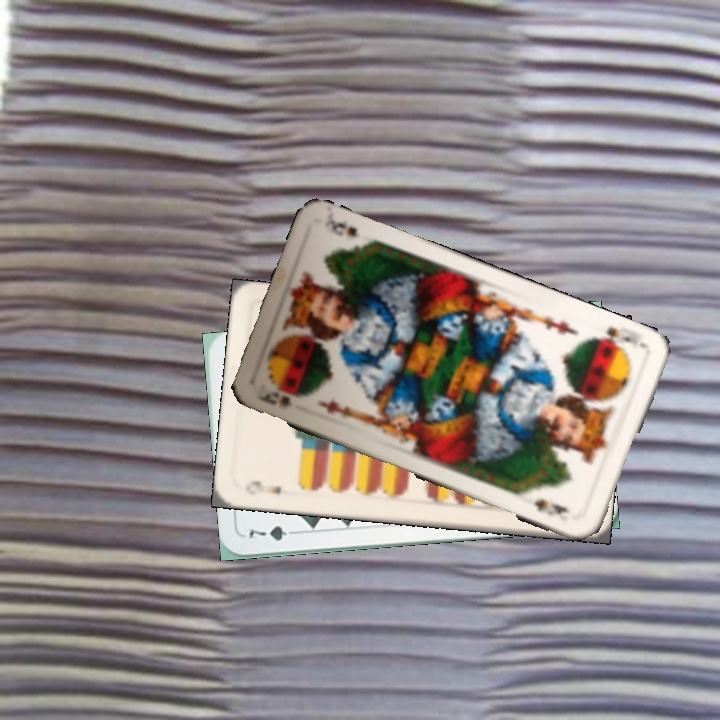E9: (241, 476, 284, 498)
G7: (244, 521, 303, 544)
SK: (588, 322, 634, 354), (252, 382, 294, 411)
